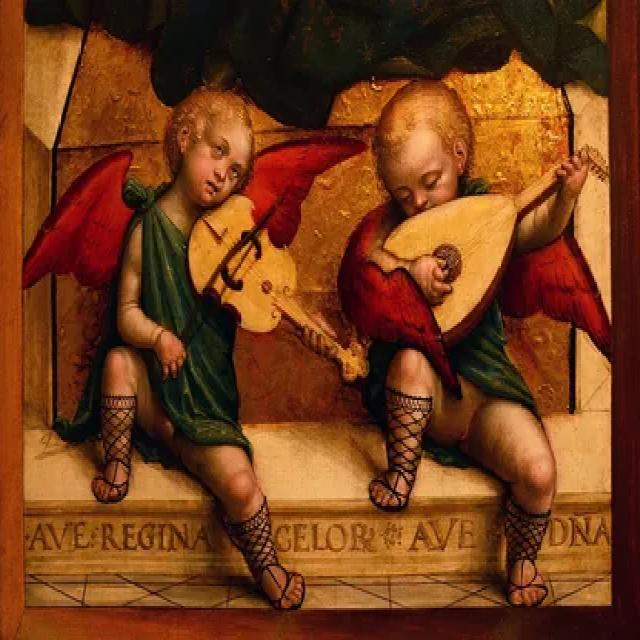angel: (35, 63, 382, 638)
